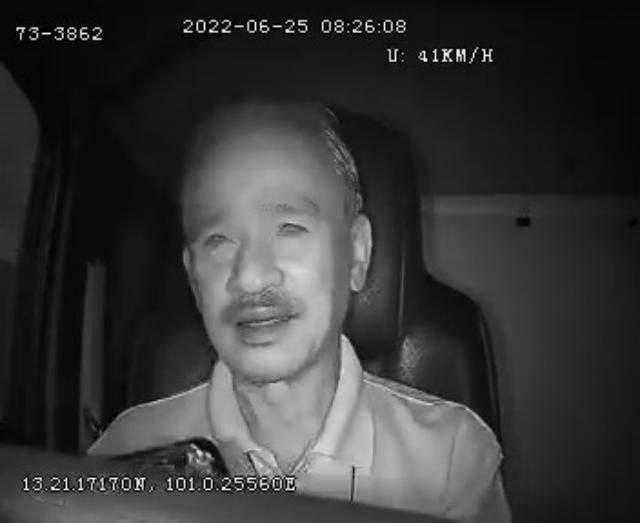PhoneUse: (107, 433, 227, 471)
SafeDriving: (192, 216, 244, 260), (269, 203, 318, 245)
